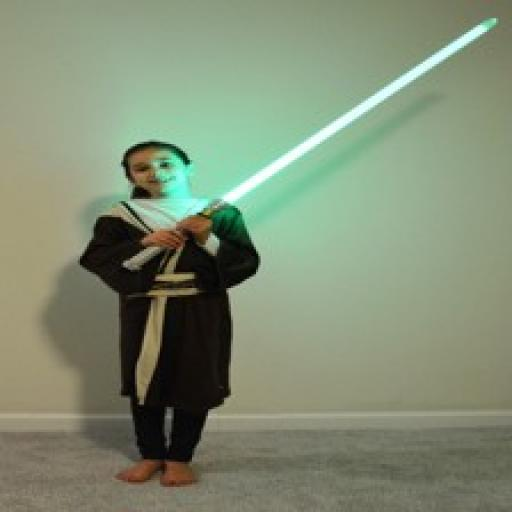lightsaber: (124, 18, 502, 272)
